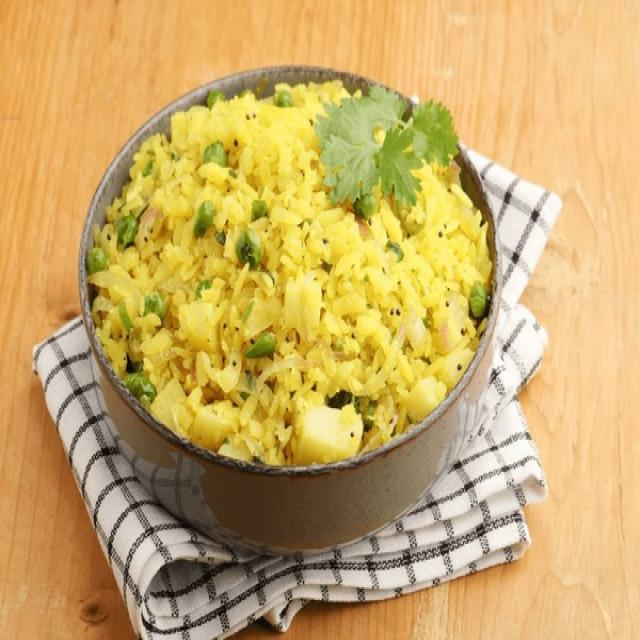UPMA: (84, 80, 491, 461)
